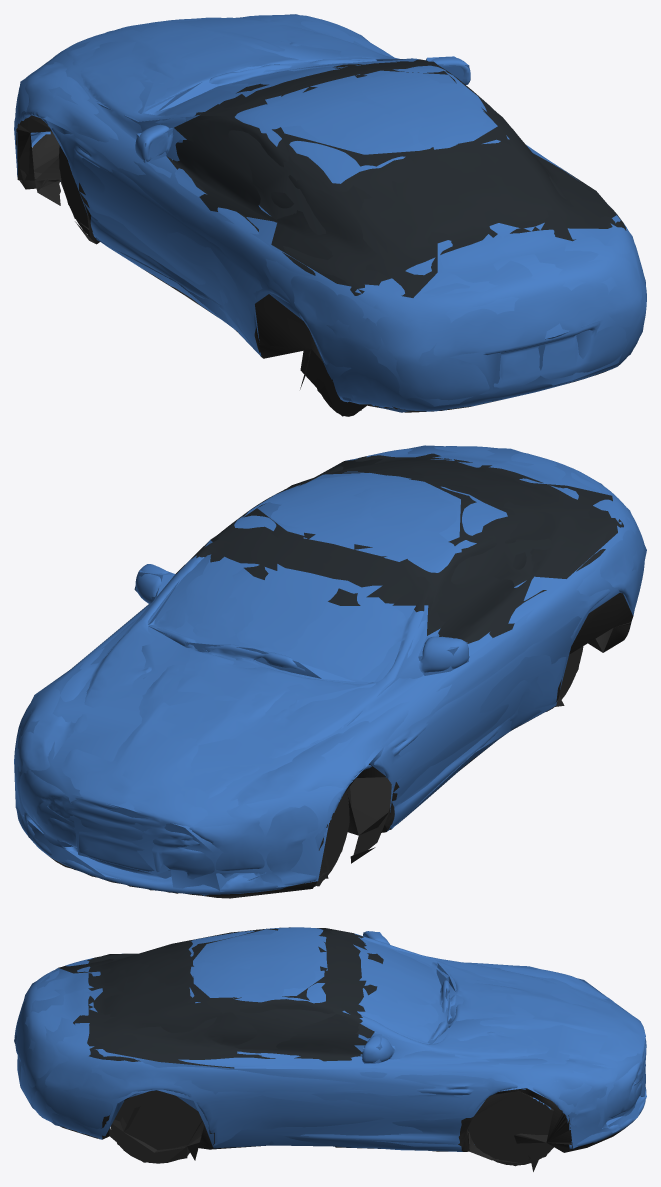
The model's file is aston-martin-db9.glb.
3 views of the same model, one above another, from view 1: azimuth 30°, elevation 25°; view 2: azimuth 150°, elevation 25°; view 3: azimuth 270°, elevation 25° (orthographic). The views are drawn at different scales.
Visible parts, largest first — view 1: body, far; view 2: body, far; view 3: body, far.
Boxes of the visible parts, x1,y1,x2,y2 form: body: (14, 15, 646, 416); far: (14, 14, 646, 416); body: (14, 446, 644, 898); far: (14, 445, 646, 891); body: (14, 927, 646, 1165); far: (14, 928, 646, 1171).
Size of the model in its own units: 2.1 by 1.4 by 4.73.
